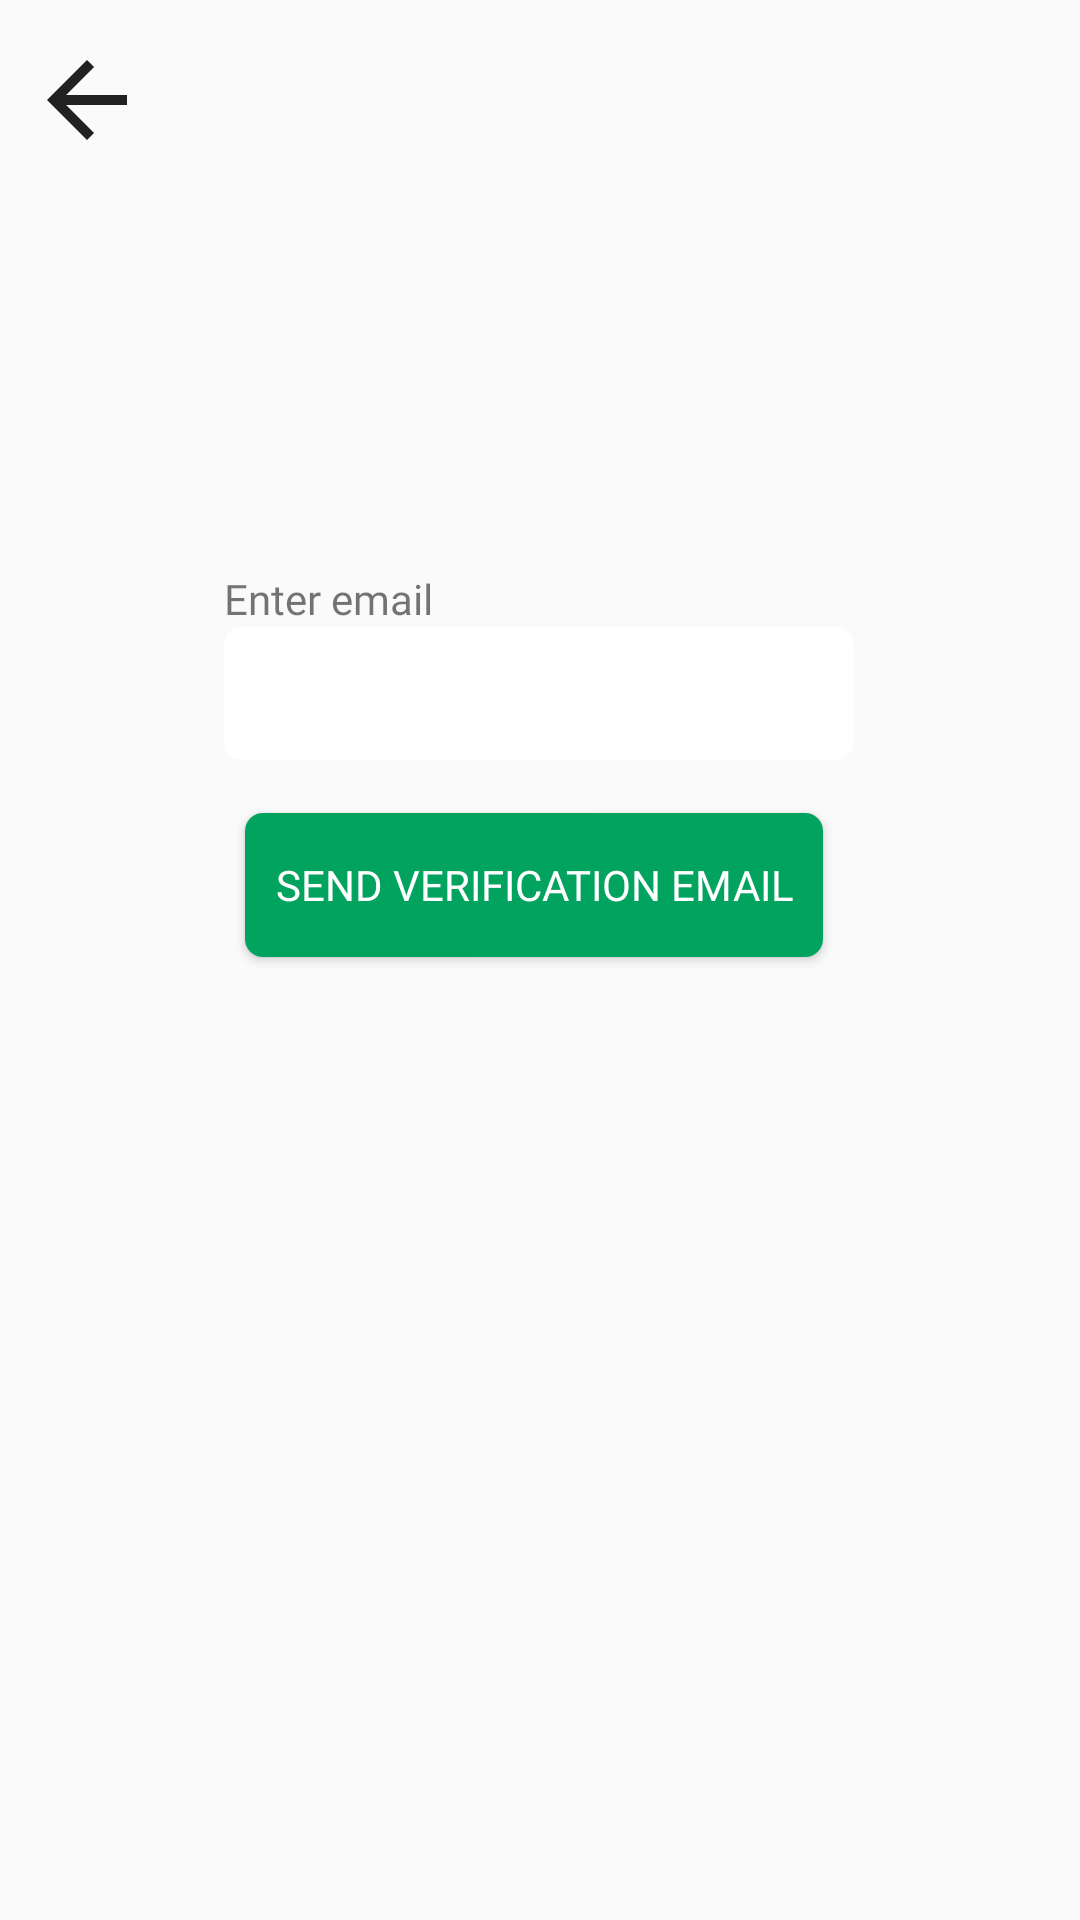

Screen size 1080×1920. Icon name, then its box in pixels as [left=x1, top=y1, right=x2, bottom=y2]:
backarrow: [left=47, top=60, right=127, bottom=140]
